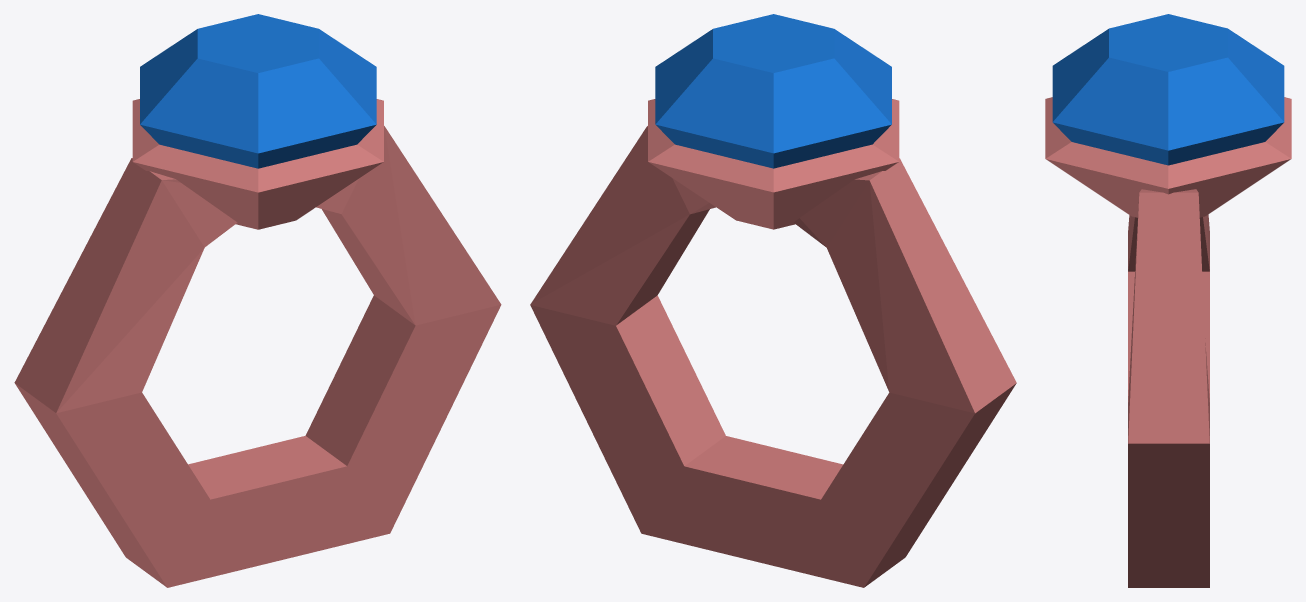
Rendered from SM_ring.fbx.
3 views of the same model, side by side, from view 1: azimuth 30°, elevation 25°; view 2: azimuth 150°, elevation 25°; view 3: azimuth 270°, elevation 25° (orthographic). The views are drawn at different scales.
Parts seen in each view (by area): view 1: Tube_10; view 2: Tube_10; view 3: Tube_10.
Boxes of the visible parts, x1,y1,x2,y2 form: Tube_10: (14, 14, 501, 587); Tube_10: (530, 14, 1016, 587); Tube_10: (1045, 14, 1291, 587).
Bounding box in the file's own units: 3.39 × 3.65 × 1.65.
